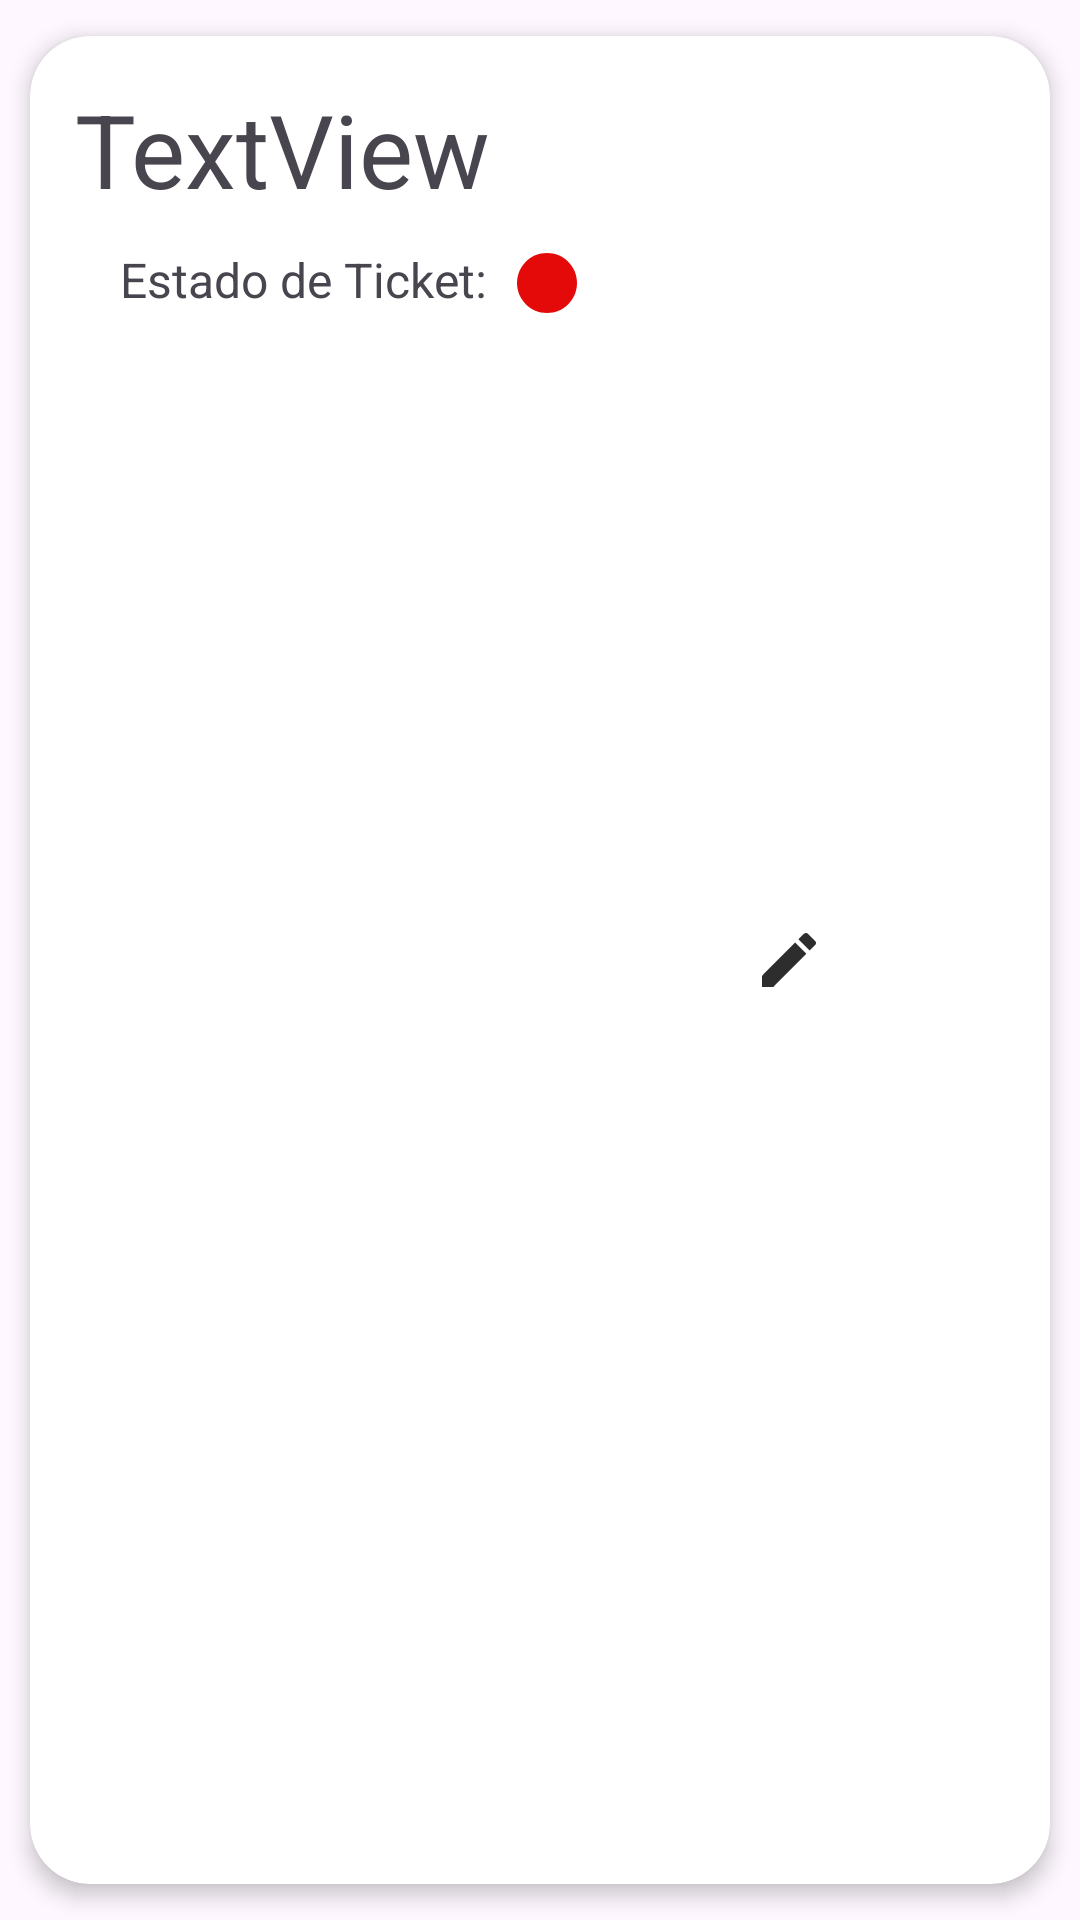

Icon bounding boxes for this 1080px×1920px phone screenshot, format bbox=[x1, y1, x2, y2]:
editar: bbox=[762, 933, 816, 987]
